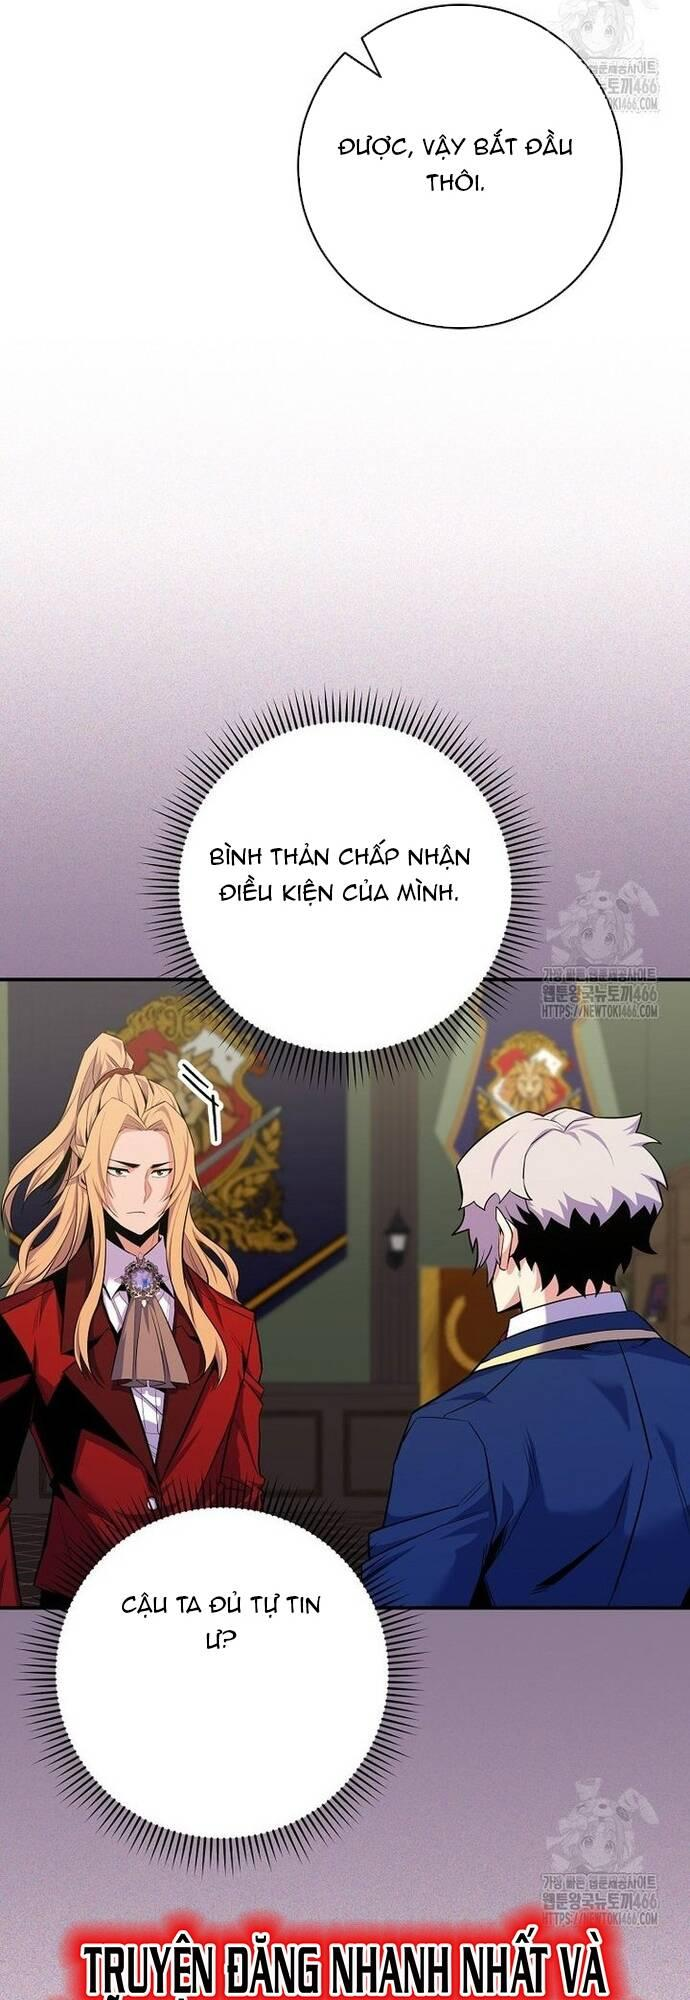quangcao: (73, 1922, 633, 2000)
